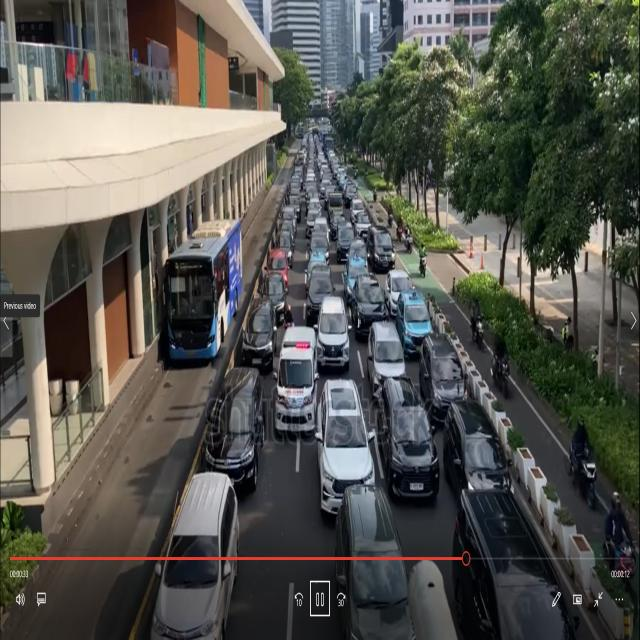Ambulance: (274, 322, 323, 446)
